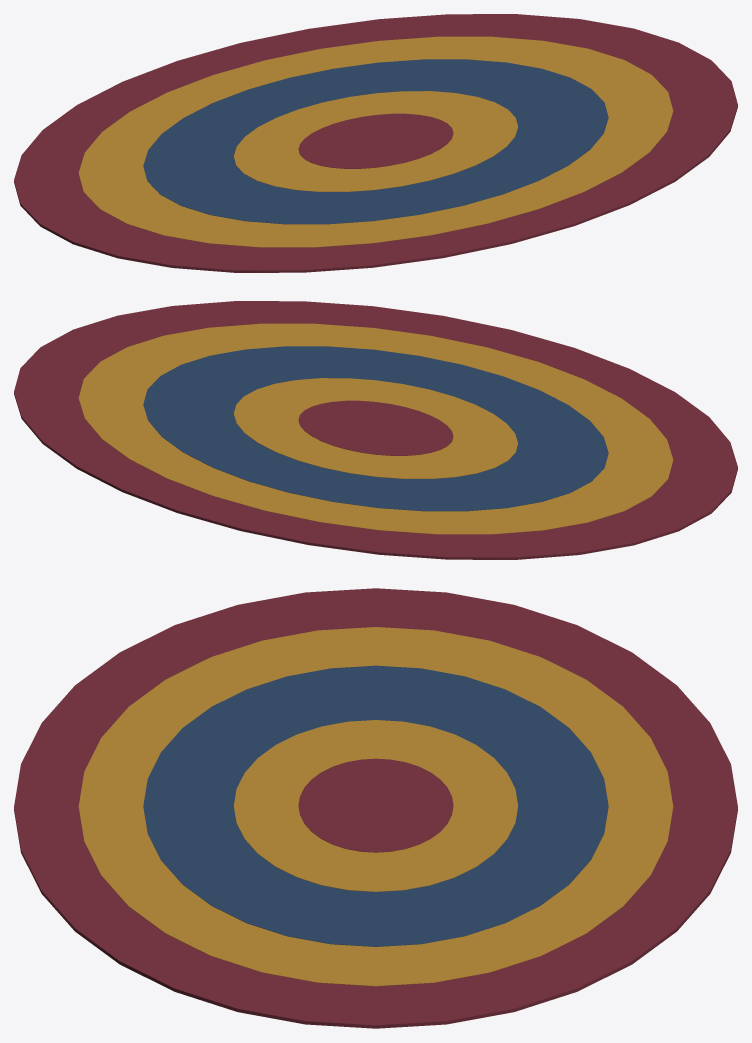
Rendered from rug.glb.
The picture shows the model from 3 angles, top to bottom: view 1: azimuth 30°, elevation 25°; view 2: azimuth 150°, elevation 25°; view 3: azimuth 270°, elevation 25°; orthographic projection. The views are drawn at different scales.
Visible parts, largest first — view 1: main; view 2: main; view 3: main.
Boxes of the visible parts, bbox=[...] form: main: bbox=[14, 14, 737, 272]; main: bbox=[14, 301, 737, 559]; main: bbox=[14, 588, 737, 1028].
Bounding box in the file's own units: 2.8 × 0.014 × 1.96.
